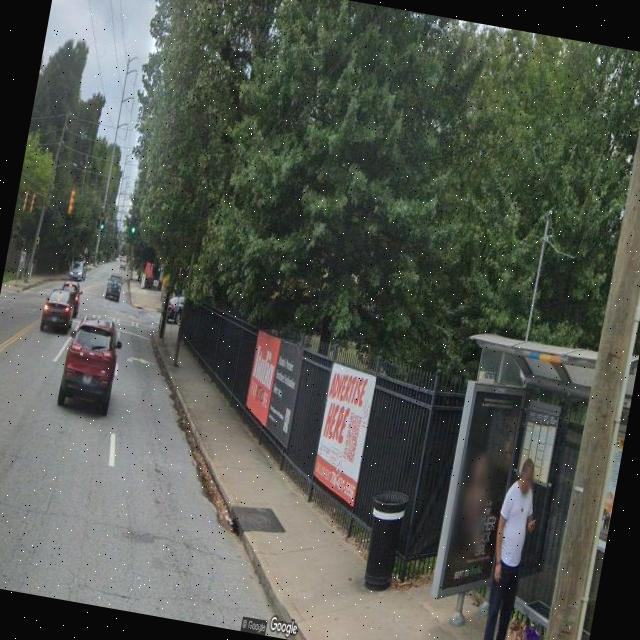seating: (511, 595, 594, 640)
shelter: (411, 326, 598, 640)
trash_can: (357, 486, 409, 592)
